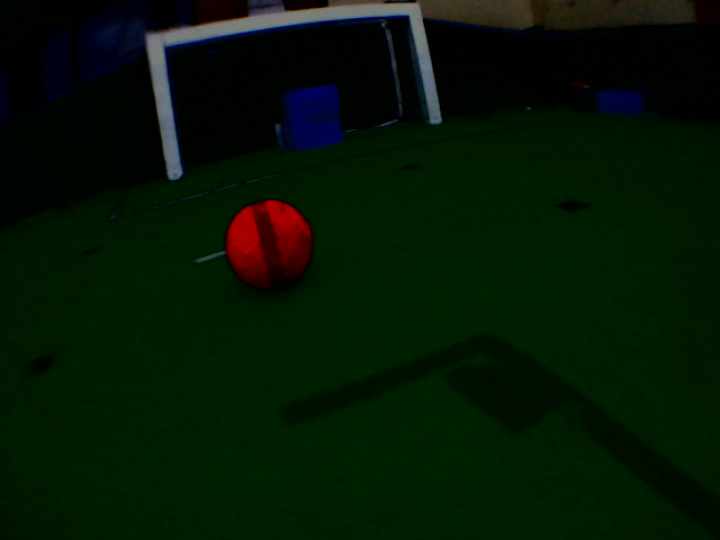bola: (216, 190, 322, 294)
